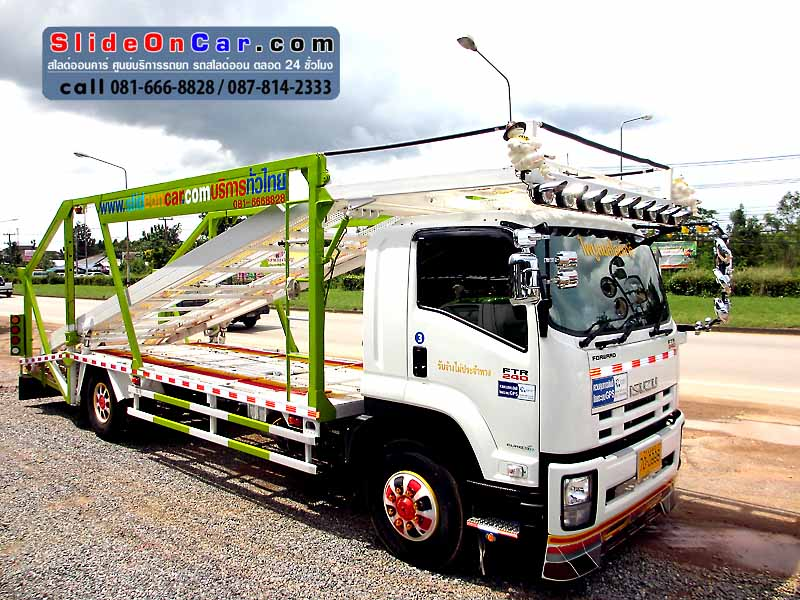truck: (17, 143, 684, 582)
